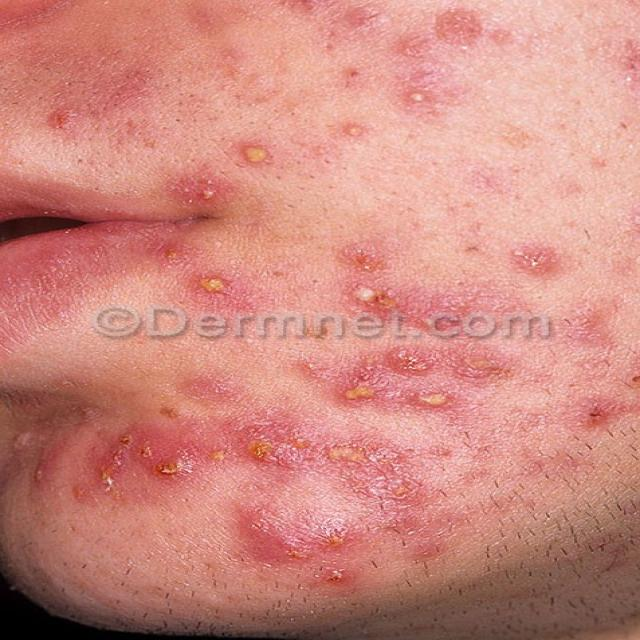Acne: (323, 442, 423, 505), (236, 505, 314, 567), (376, 510, 462, 562), (235, 418, 315, 469), (90, 429, 137, 499), (446, 343, 516, 385), (185, 270, 257, 309), (560, 303, 613, 352), (164, 172, 235, 208), (134, 442, 194, 482), (329, 374, 387, 410), (386, 388, 470, 412), (338, 280, 397, 313), (387, 81, 444, 114), (385, 342, 437, 377), (568, 396, 621, 429), (513, 243, 561, 278), (338, 244, 389, 276), (229, 140, 283, 169), (309, 518, 354, 550), (146, 241, 192, 271), (39, 105, 85, 132), (331, 116, 374, 144), (317, 562, 357, 590)
